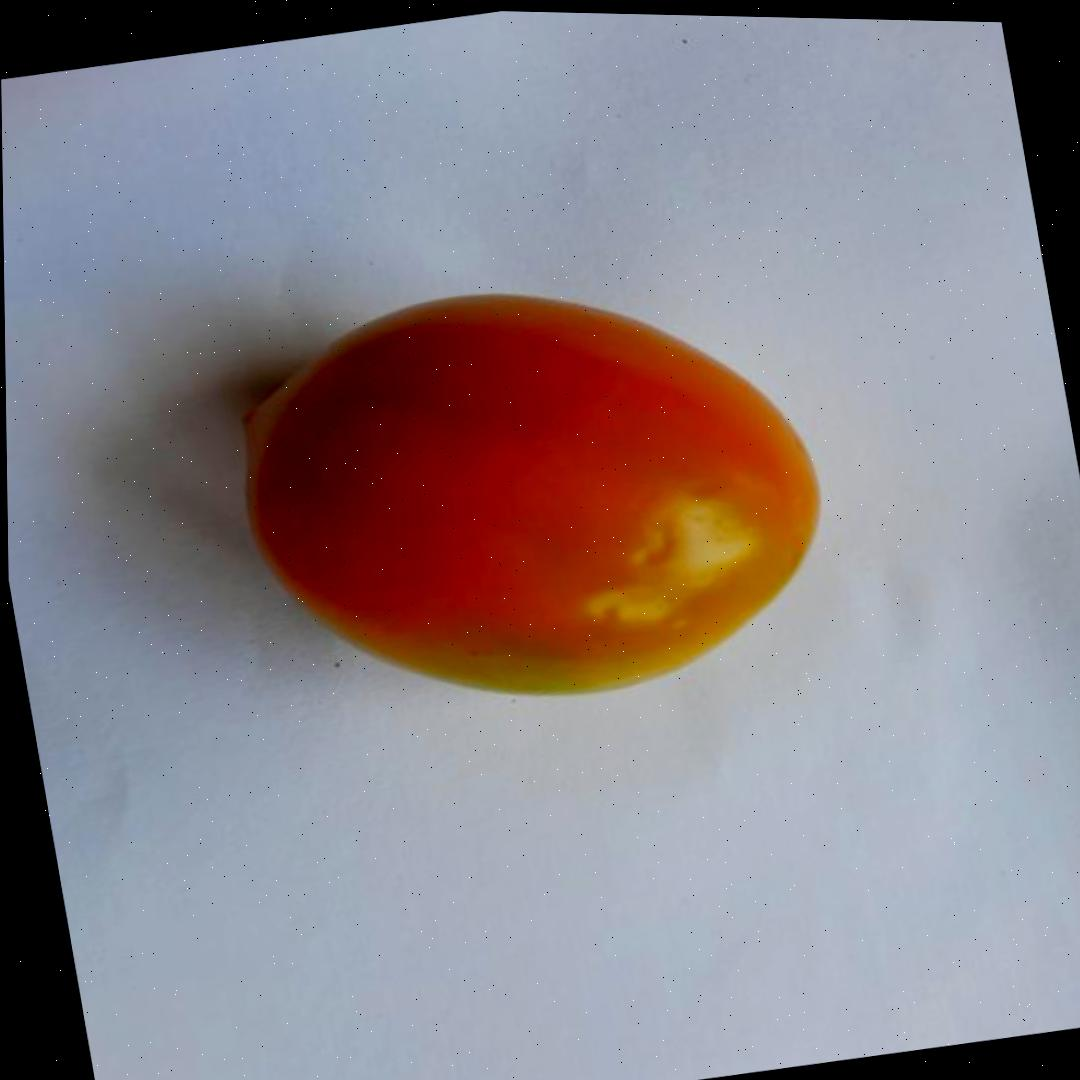setengah_matang: (205, 234, 859, 753)
